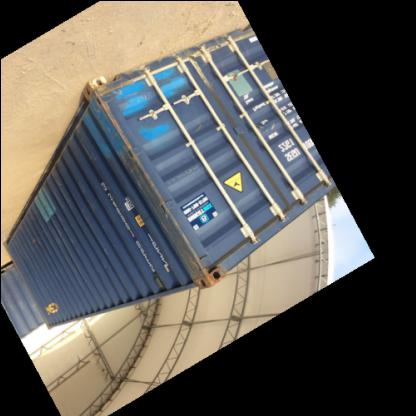Damage: (94, 88, 139, 172), (164, 226, 218, 292), (131, 162, 173, 230), (186, 53, 222, 104)
